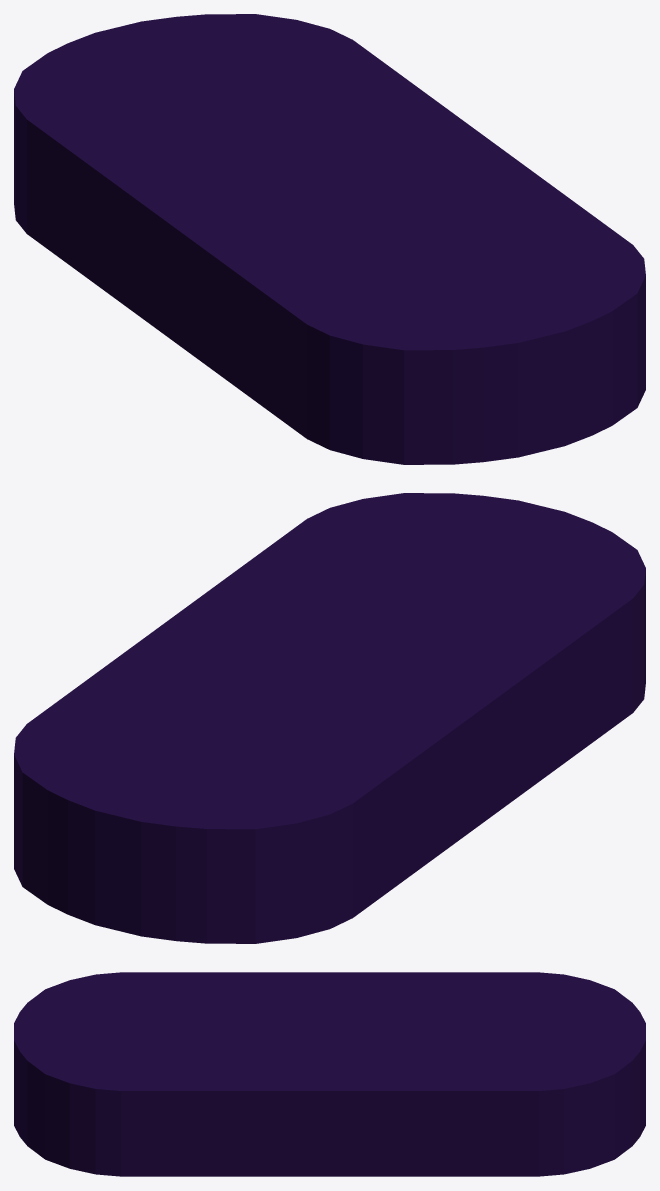
Rendered from SpeedSkatingTrack.glb.
3 renders of one model, top to bottom at view 1: azimuth 30°, elevation 25°; view 2: azimuth 150°, elevation 25°; view 3: azimuth 270°, elevation 25°, orthographic. The views are drawn at different scales.
Visible parts, largest first — view 1: GymWallRoof; view 2: GymWallRoof; view 3: GymWallRoof.
Part boxes in pixels (x1,y1,x2,y2): GymWallRoof: (14, 14, 645, 464); GymWallRoof: (14, 493, 645, 943); GymWallRoof: (14, 972, 645, 1176).
Bounding box in the file's own units: 20.84 × 7 × 46.9.
